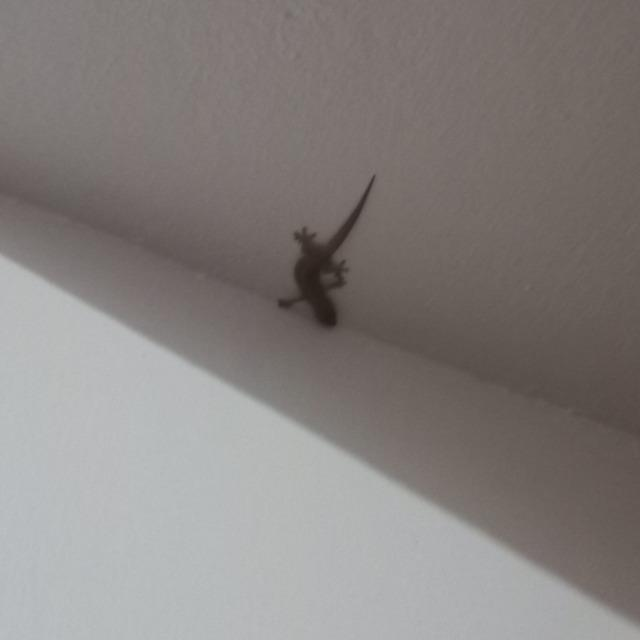lizard: (274, 173, 380, 330)
